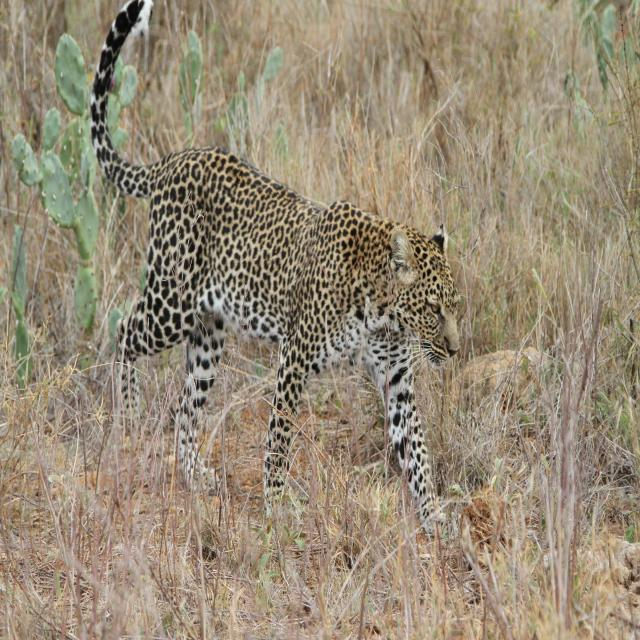Leopard: (79, 24, 463, 522)
